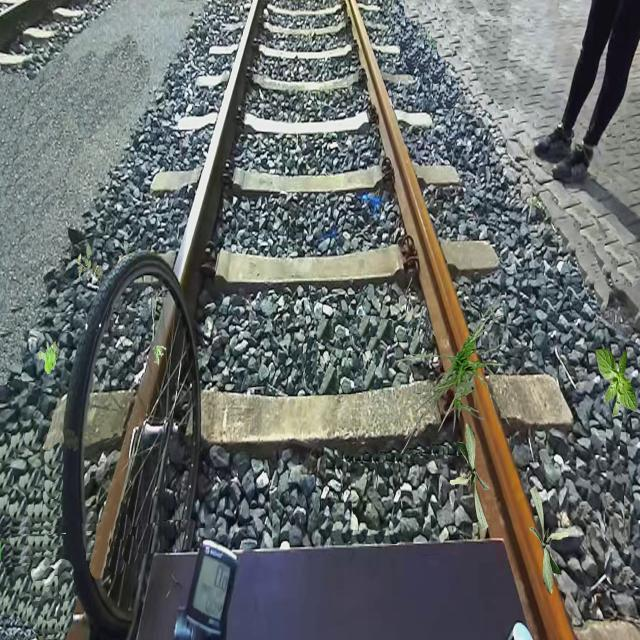Plant: (393, 292, 512, 456), (450, 422, 490, 532), (529, 486, 569, 596), (596, 346, 638, 417), (75, 244, 102, 285), (37, 342, 58, 375), (153, 345, 167, 366)
